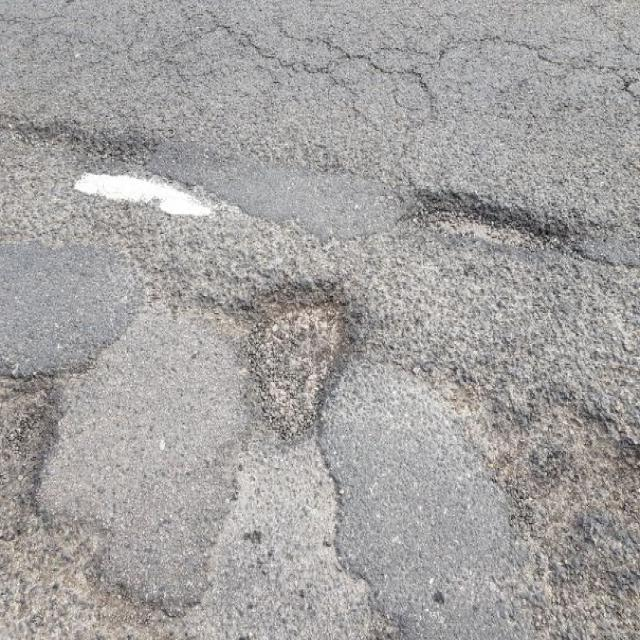Pothole: (235, 261, 369, 446), (1, 357, 85, 529), (401, 180, 581, 254)
